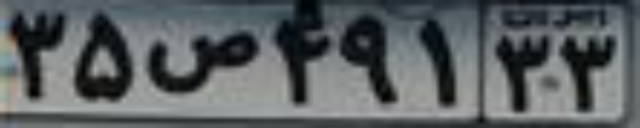1: (415, 22, 456, 104)
3: (11, 10, 68, 98), (559, 35, 620, 111), (497, 34, 543, 110)
4: (274, 18, 328, 103)
5: (73, 13, 136, 99)
9: (341, 15, 398, 102)
saat: (152, 31, 258, 93)
